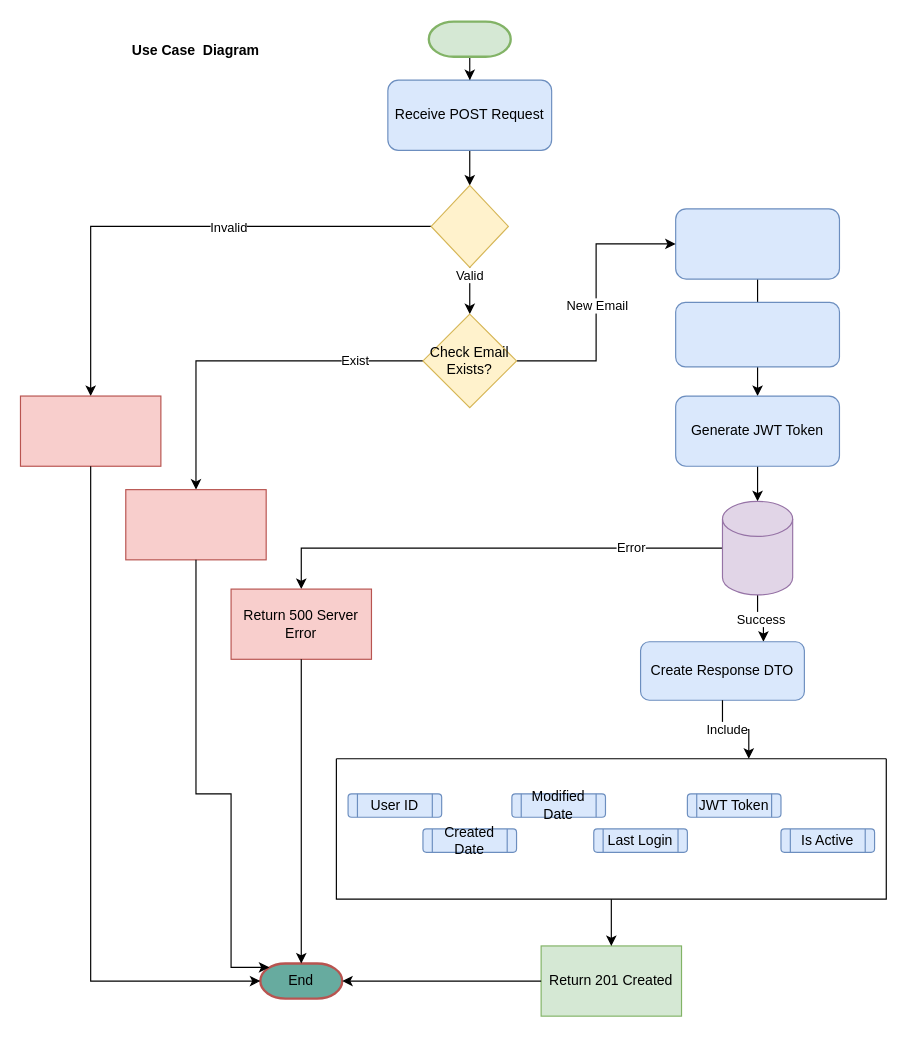
The diagram is 907 pixels wide and 1037 high, and some of its shapes have lost their labels. The shapes that lost their labels are listed below. From the top down, each one's box as (x1, y1, x2, y2) in pixels, then its label:
(427, 20, 511, 57): Stard
(430, 184, 508, 267): Validate Input
(675, 208, 839, 279): Generate Password Hash
(675, 301, 839, 367): Create User Entity
(19, 395, 161, 466): Return 400 Bad Request
(125, 488, 266, 560): Return 409 Conflict
(721, 500, 793, 595): Save to Database
